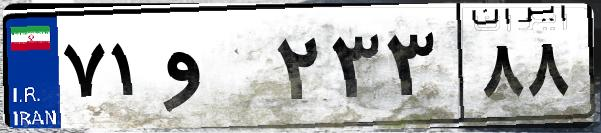1: (110, 28, 158, 98)
2: (270, 28, 330, 110)
3: (385, 28, 445, 110), (330, 28, 385, 110)
7: (57, 26, 110, 100)
8: (475, 38, 525, 113), (525, 38, 570, 115)
و: (158, 20, 270, 120)
